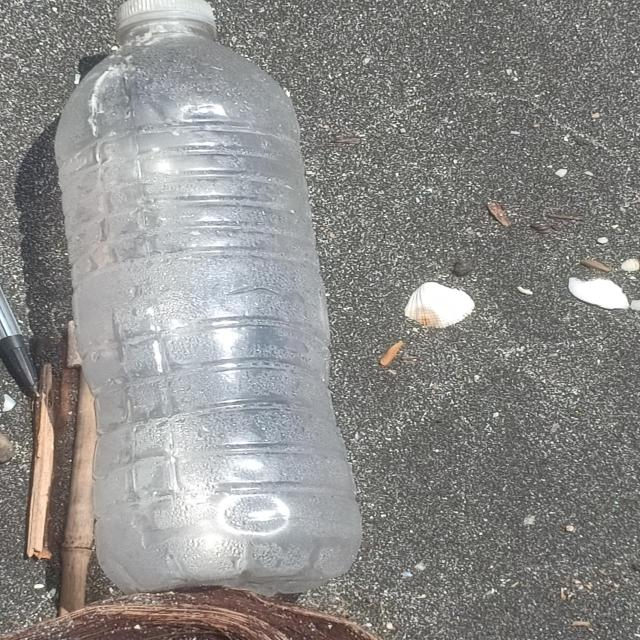plastic_waste: (54, 1, 364, 601)
